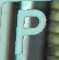Parking: (13, 6, 48, 59)
